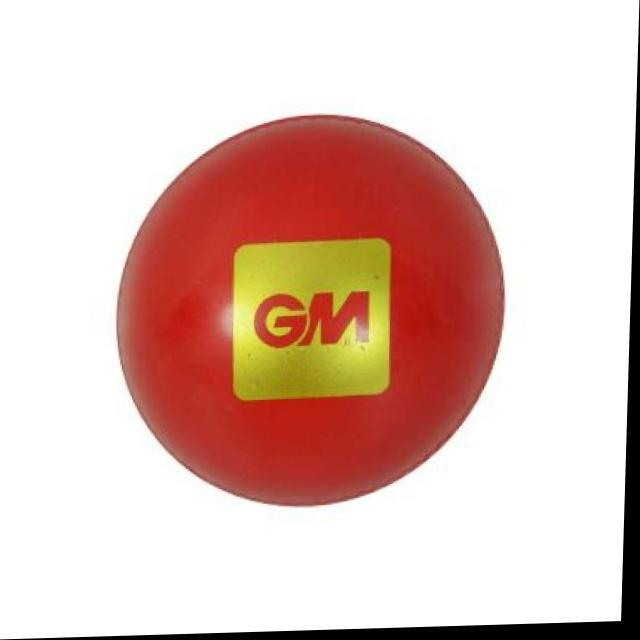cricket ball: (118, 116, 508, 509)
